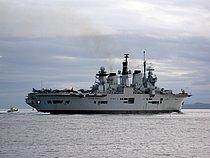MIL_Ship: (24, 51, 192, 114)
